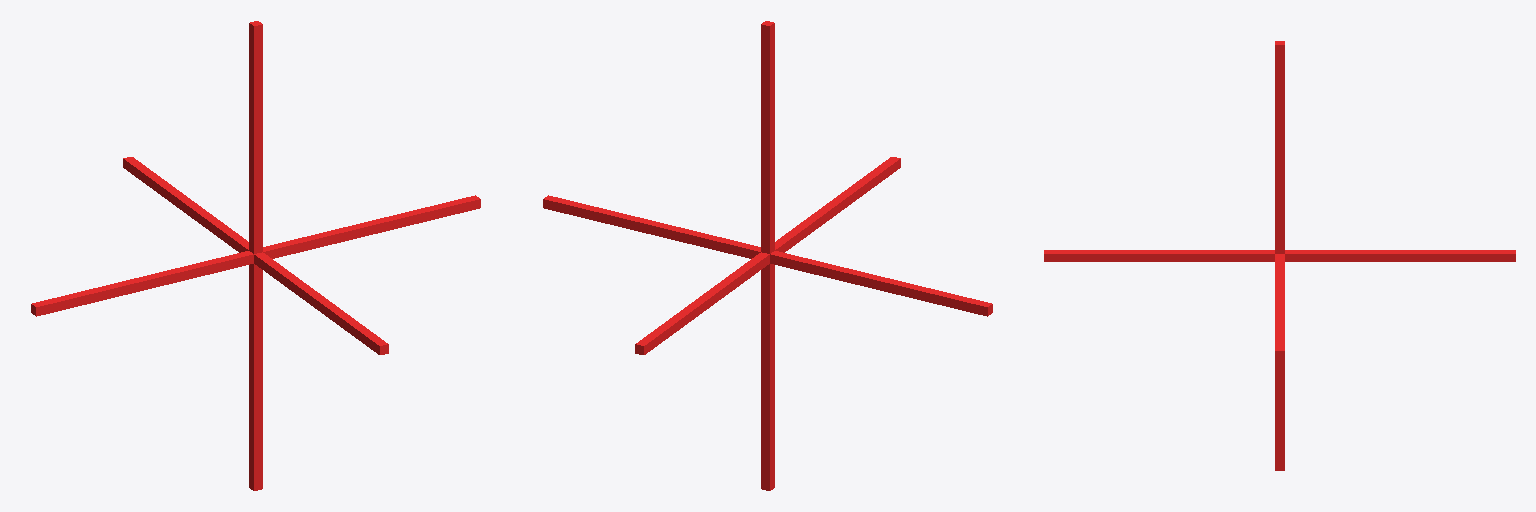
robot.urdf — coord:
<?xml version="1.0"?>
<robot name="coord">
    <link name="base" />
    <link name="coord_x">
        <inertial>
            <mass value="1.0" />
            <origin xyz="0 0 0.0" rpy="0 0 0"/>
            <inertia ixx="1.0" ixy="0" ixz="0" iyy="1.0" iyz="0" izz="1.0" />
        </inertial>
        <visual>
            <origin xyz="0 0 0.0" rpy="0 0 0" />
            <geometry>
                <box size="0.25 0.005 0.005" />
            </geometry>
            <material name="Grey">
                <color rgba ="1.0 0.2 0.2 1.0"/>
            </material>
        </visual>
    </link>
    <joint name="coord_jx" type="fixed">
        <origin xyz="0 0 0" rpy="0 0 0" />
        <parent link="base" />
        <child link="coord_x" />
    </joint>

    <link name="coord_y">
        <inertial>
            <mass value="1.0" />
            <origin xyz="0 0 0.0" rpy="0 0 0"/>
            <inertia ixx="1.0" ixy="0" ixz="0" iyy="1.0" iyz="0" izz="1.0" />
        </inertial>
        <visual>
            <origin xyz="0 0 0.0" rpy="0 0 0" />
            <geometry>
                <box size="0.005 0.25 0.005" />
            </geometry>
            <material name="Grey">
                <color rgba ="1.0 0.2 0.2 1.0"/>
            </material>
        </visual>
    </link>
    <joint name="coord_jy" type="fixed">
        <origin xyz="0 0 0" rpy="0 0 0" />
        <parent link="base" />
        <child link="coord_y" />
    </joint>

    <link name="coord_z">
        <inertial>
            <mass value="1.0" />
            <origin xyz="0 0 0.0" rpy="0 0 0"/>
            <inertia ixx="1.0" ixy="0" ixz="0" iyy="1.0" iyz="0" izz="1.0" />
        </inertial>
        <visual>
            <origin xyz="0 0 0.0" rpy="0 0 0" />
            <geometry>
                <box size="0.005 0.005 0.25" />
            </geometry>
            <material name="Grey">
                <color rgba ="1.0 0.2 0.2 1.0"/>
            </material>
        </visual>
    </link>
    <joint name="coord_jz" type="fixed">
        <origin xyz="0 0 0" rpy="0 0 0" />
        <parent link="base" />
        <child link="coord_z" />
    </joint>

</robot>

--- Facts derived from the render (not from the file) ---
3 views of the same robot in one strip: view 1: azimuth 30°, elevation 25°; view 2: azimuth 150°, elevation 25°; view 3: azimuth 270°, elevation 25° (orthographic).
Robot: coord — 4 links, 3 joints (3 fixed); root link base; default pose: all joints at 0.
Visible links, largest first — view 1: coord_z, coord_x, coord_y; view 2: coord_z, coord_x, coord_y; view 3: coord_y, coord_z, coord_x.
Link boxes in pixels (<box>): coord_z: <box>249,21,262,490</box>; coord_x: <box>31,195,480,316</box>; coord_y: <box>123,157,388,354</box>; coord_z: <box>761,21,774,490</box>; coord_x: <box>543,195,992,316</box>; coord_y: <box>635,157,900,354</box>; coord_y: <box>1044,250,1515,261</box>; coord_z: <box>1275,41,1284,470</box>; coord_x: <box>1275,254,1284,359</box>.
Bounding box of the posed robot: 0.25 × 0.25 × 0.25 m (x, y, z).
Geometry: primitives only (box / cylinder / sphere), no mesh files.
